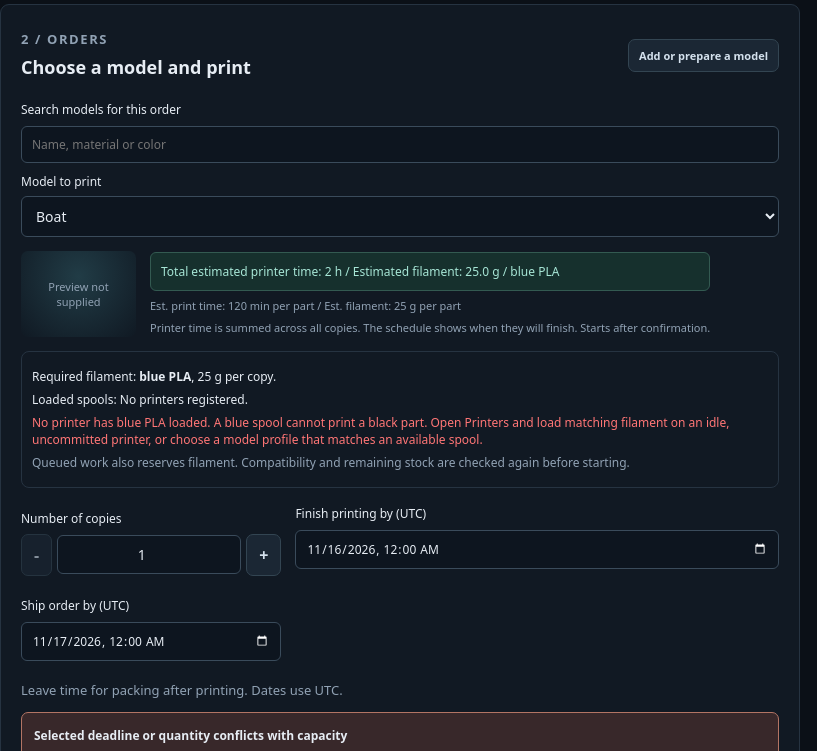
Test case: compact order planning searches models, keeps the library choice and offers feasible alternatives
Check: the dropdown labelled "Model to print" shows "Boat", box 21,196 -> 779,236
In the search field labelled "Search models for this order": point(400, 144) 21,126 -> 779,162, type "Boat"
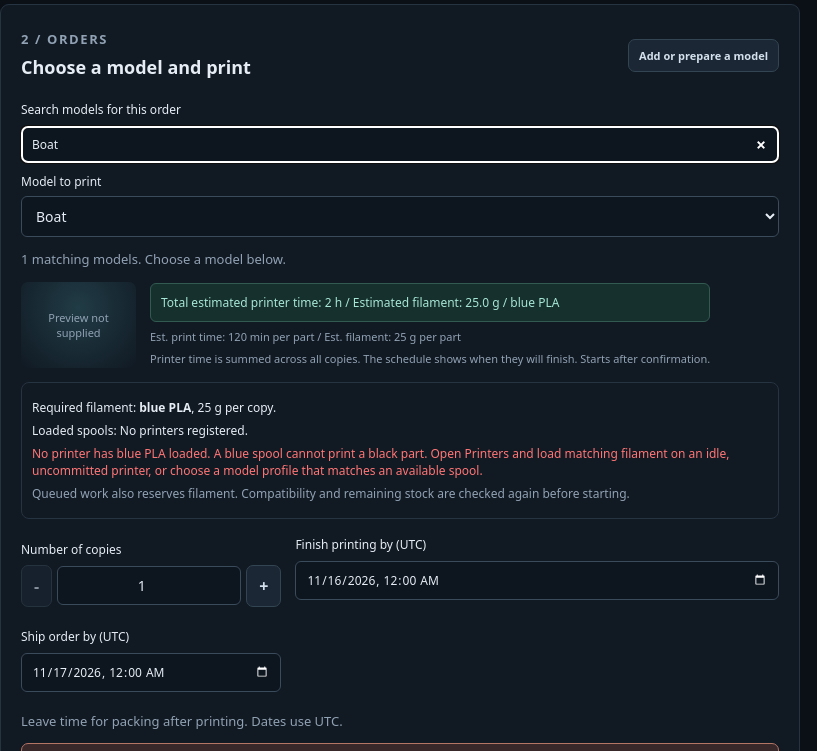
Click the button named "Increase copies": point(264, 586) 246,564 -> 281,606
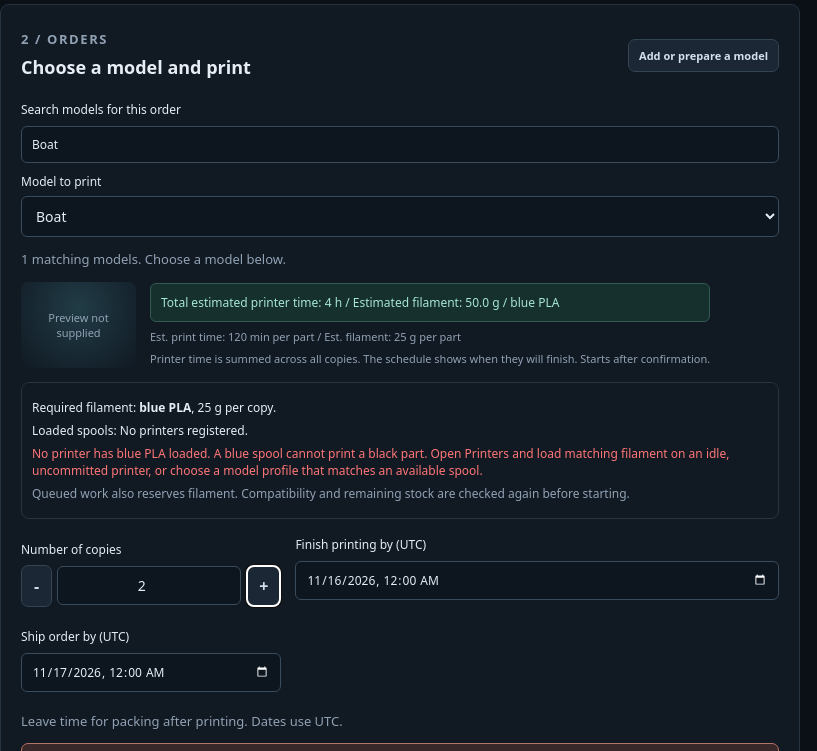
Check: the number field labelled "Number of copies" holds "2"
Replace the text in the number field labelled "Number of copies" with "20": point(149, 586) 57,566 -> 241,605
(page scrolled)
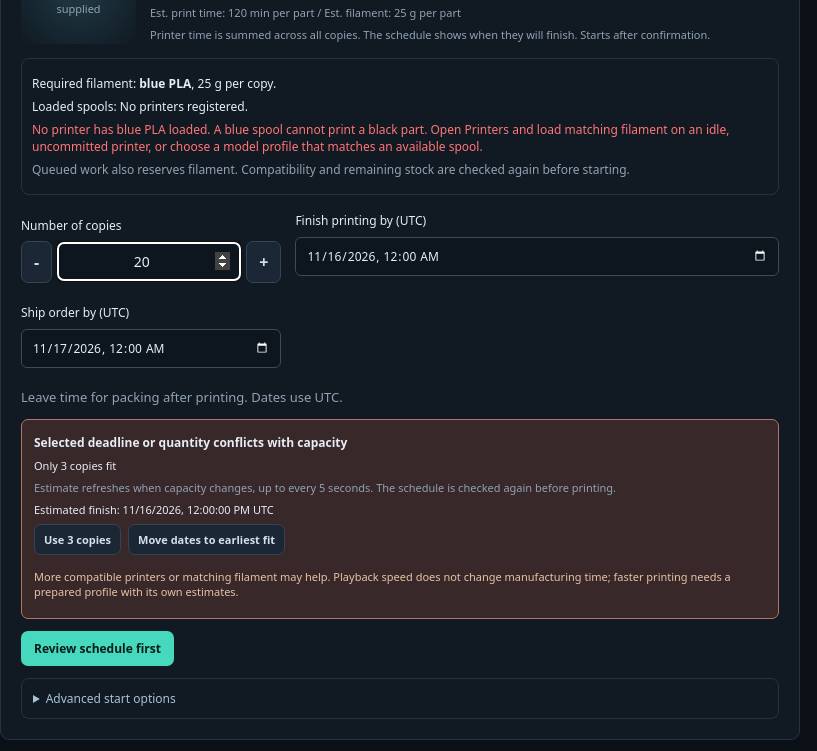
Click the button "Use 3 copies": point(78, 539) 34,524 -> 121,554
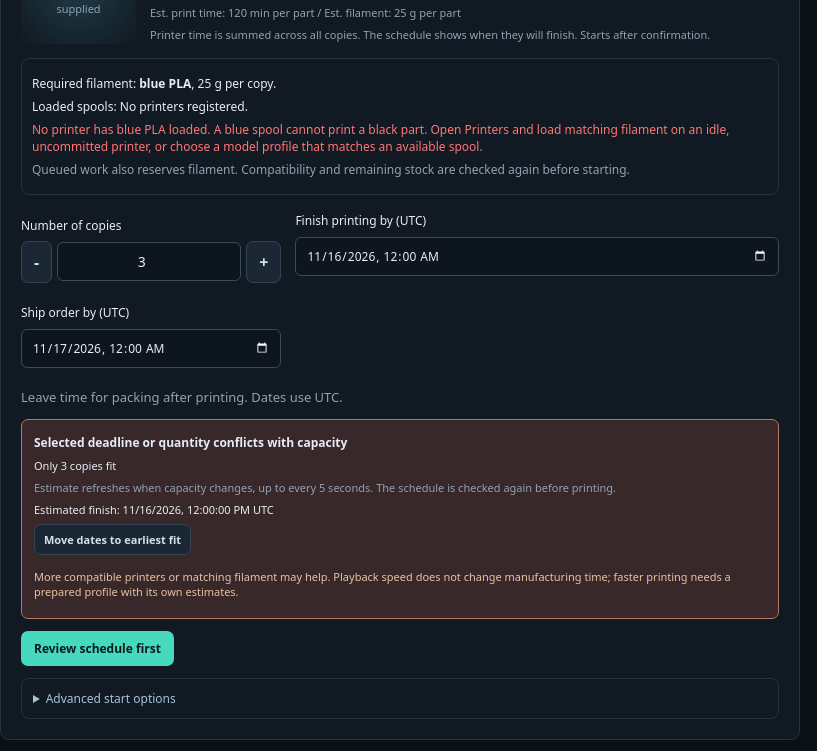
Check: the number field labelled "Number of copies" holds "3", box 57,242 -> 241,281
Click the button "Move dates to earliest fit": point(113, 539) 34,524 -> 191,554
(page scrolled)
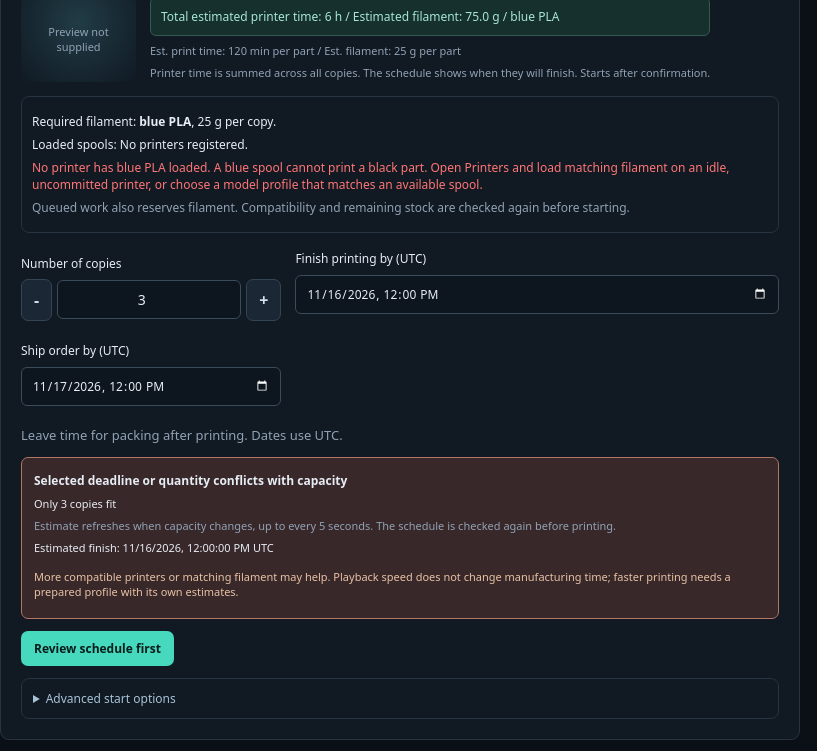
Check: the text "Playback speed does not change manufacturing" is shown, box 34,568 -> 731,598
Check: the field labelled "Finish printing by (UTC)" holds "2026-11-16T12:00", box 295,274 -> 779,314
